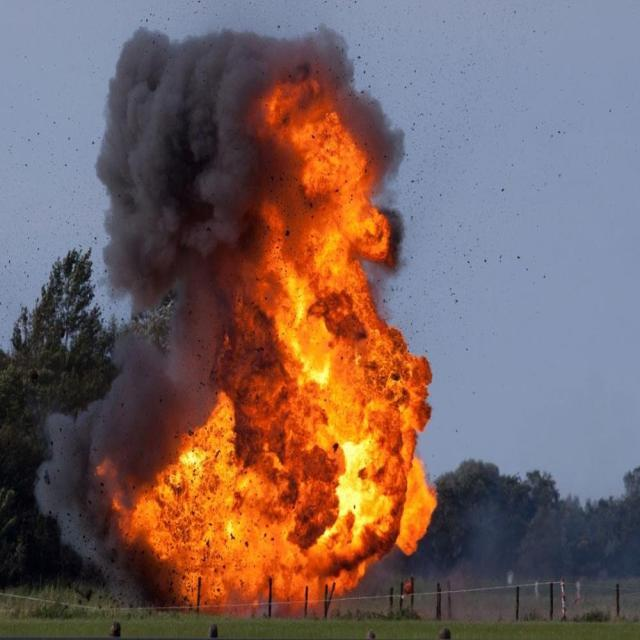Fire: (97, 71, 440, 619)
Smoke: (32, 21, 410, 618)
